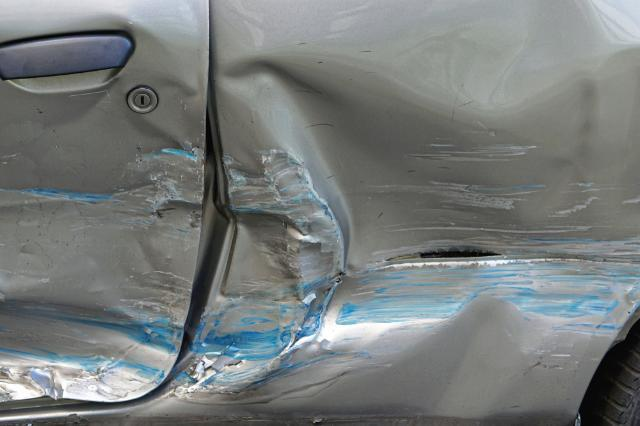crack: (386, 250, 508, 262)
dent: (189, 0, 640, 423), (0, 31, 208, 403)
